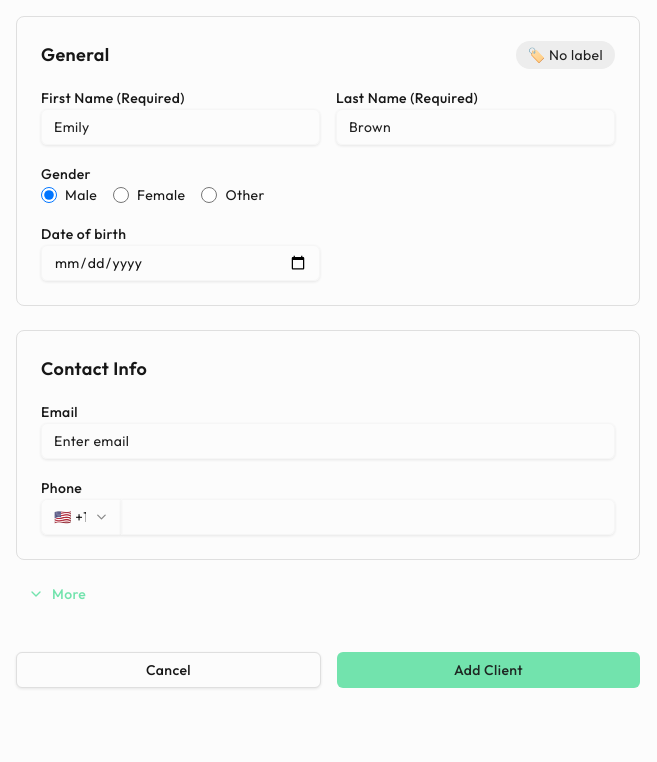
it: ClientForm › Form Validation › shows validation errors for required fields
# Try to submit without filling required fields
Click the button "Add Client" at (488, 670), box [337, 652, 640, 688]
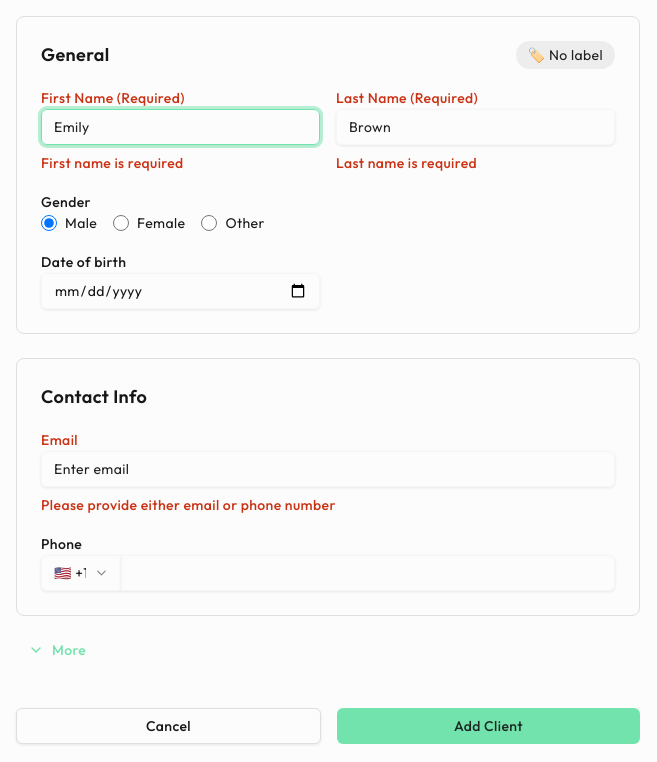
Result: the text "First name is required" is shown at [41, 154, 184, 172]
Result: the text "Last name is required" is shown at [336, 154, 477, 172]
